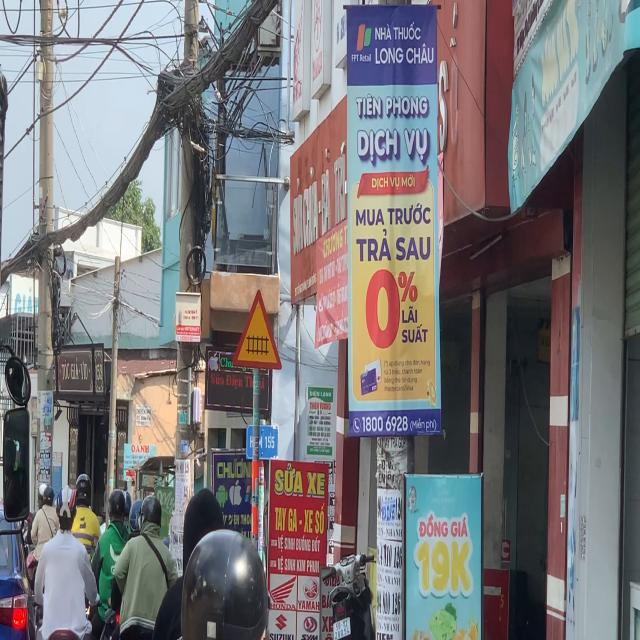Nguy hiem: (230, 277, 286, 370)
